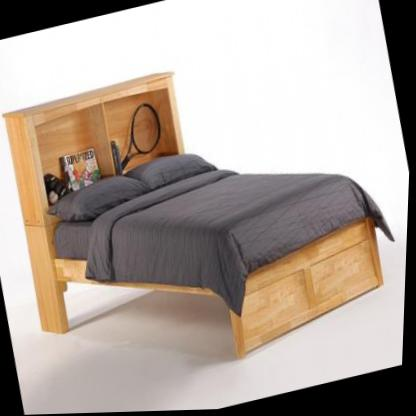Bed: (0, 27, 403, 405)
